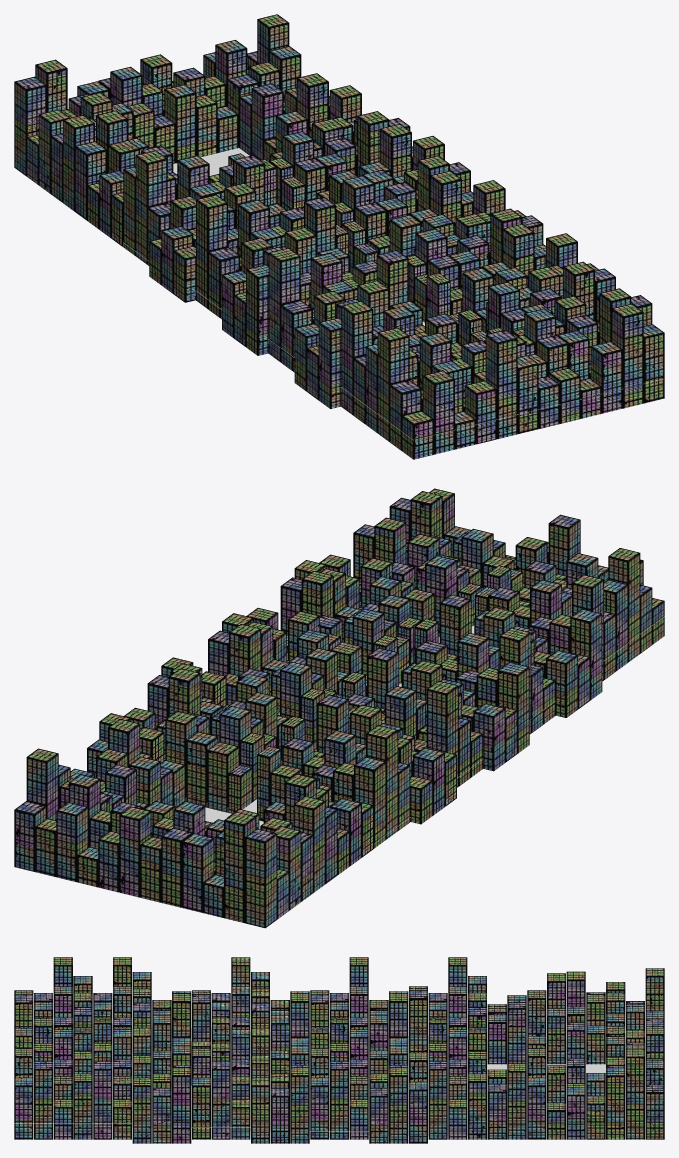
The model's file is O_006_field_01_01.fbx.
3 renders of one model, top to bottom at view 1: azimuth 30°, elevation 25°; view 2: azimuth 150°, elevation 25°; view 3: azimuth 270°, elevation 25°, orthographic. The views are drawn at different scales.
Parts seen in each view (by area): view 1: Plane007, Plane003, decoration_space; view 2: Plane007, Plane003, decoration_space; view 3: Plane007, Plane003, decoration_space.
Part boxes in pixels (x1=…): Plane007: x1=149, y1=124, x2=664, y2=459; Plane003: x1=14, y1=14, x2=410, y2=265; decoration_space: x1=15, y1=147, x2=663, y2=440; Plane007: x1=161, y1=488, x2=664, y2=824; Plane003: x1=14, y1=668, x2=410, y2=928; decoration_space: x1=14, y1=616, x2=664, y2=928; Plane007: x1=14, y1=957, x2=427, y2=1143; Plane003: x1=428, y1=957, x2=664, y2=1139; decoration_space: x1=14, y1=1023, x2=664, y2=1139.
Bounding box in the file's own units: 6808 × 2420 × 17323.
